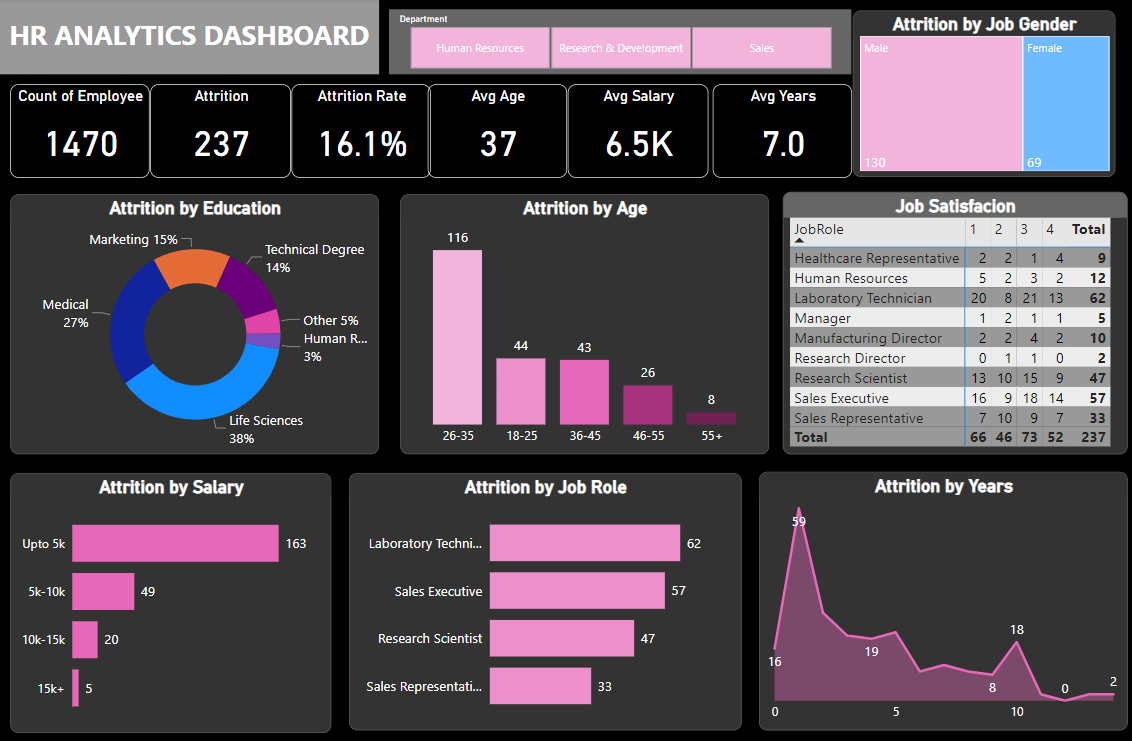

What the dashboard file says about the page in this screenshot:
{"tool":"powerbi","page":{"name":"Page 1","canvas":[1370,900],"ordinal":0},"visuals":[{"type":"card","title":"Count of Employee","fields":{"Values":["Sum(HR_Analytics.EmployeeCount)"]},"box":[13.9,103.5,168.3,112.7],"z":0},{"type":"card","title":"Attrition","fields":{"Values":["Sum(HR_Analytics.AttritionCount)"]},"box":[182.2,103.5,169.9,112.7],"z":1000},{"type":"card","title":"Attrition Rate","fields":{"Values":["HR_Analytics.AttritionRate"]},"box":[352.1,103.5,168.3,112.7],"z":2000},{"type":"card","title":"Avg Age","fields":{"Values":["Avg(HR_Analytics.Age)"]},"box":[517.3,103.5,168.3,112.7],"z":3000},{"type":"card","title":"Avg Years","fields":{"Values":["Avg(HR_Analytics.YearsAtCompany)"]},"box":[860.1,103.5,168.3,112.7],"z":4000},{"type":"card","title":"Avg Salary","fields":{"Values":["Avg(HR_Analytics.MonthlyIncome)"]},"box":[685.6,103.5,169.9,112.7],"z":5000},{"type":"donutChart","title":"Attrition by Education","fields":{"Y":["Sum(HR_Analytics.AttritionCount)"],"Category":["HR_Analytics.EducationField"]},"box":[13.6,236.7,444.7,313.6],"z":6000},{"type":"clusteredColumnChart","title":"Attrition by Age","fields":{"Category":["HR_Analytics.AgeGroup"],"Y":["Sum(HR_Analytics.AttritionCount)"]},"box":[483.9,236.7,444.7,313.6],"z":7000},{"type":"pivotTable","title":"Job Satisfacion","fields":{"Rows":["HR_Analytics.JobRole"],"Columns":["HR_Analytics.JobSatisfaction"],"Values":["Sum(HR_Analytics.AttritionCount)"]},"box":[945.2,233.7,416.1,316.6],"z":8000},{"type":"barChart","title":"Attrition by Salary","fields":{"Category":["HR_Analytics.SalarySlab"],"Y":["Sum(HR_Analytics.AttritionCount)"]},"box":[13.6,572.9,387.4,313.6],"z":9000},{"type":"barChart","title":"Attrition by Job Role","fields":{"Category":["HR_Analytics.JobRole"],"Y":["Sum(HR_Analytics.AttritionCount)"]},"box":[422.1,572.9,473.4,310.6],"z":10000},{"type":"areaChart","title":"Attrition by Years","fields":{"Category":["HR_Analytics.YearsAtCompany"],"Y":["Sum(HR_Analytics.AttritionCount)"]},"box":[916.6,571.4,444.7,312.1],"z":11000},{"type":"treemap","title":"Attrition by Job Gender","fields":{"Group":["HR_Analytics.Gender"],"Values":["Sum(HR_Analytics.AttritionCount)"]},"box":[1030,15.4,316.6,200.7],"z":12000},{"type":"slicer","fields":{"Values":["HR_Analytics.Department"]},"box":[470.4,13.6,557.8,78.4],"z":13000},{"type":"textbox","box":[0,0,458.3,92],"z":14000}]}

Visuals, with their boxes in screenshot pixels (x1, y1, x2, y2), scaled from the page's 1370x900 canvas onto the 1132x741 screenshot:
"Count of Employee" card: locate(11, 85, 151, 178)
"Attrition" card: locate(151, 85, 291, 178)
"Attrition Rate" card: locate(291, 85, 430, 178)
"Avg Age" card: locate(427, 85, 566, 178)
"Avg Years" card: locate(711, 85, 850, 178)
"Avg Salary" card: locate(566, 85, 707, 178)
"Attrition by Education" donutChart: locate(11, 195, 379, 453)
"Attrition by Age" clusteredColumnChart: locate(400, 195, 767, 453)
"Job Satisfacion" pivotTable: locate(781, 192, 1125, 453)
"Attrition by Salary" barChart: locate(11, 472, 331, 730)
"Attrition by Job Role" barChart: locate(349, 472, 740, 727)
"Attrition by Years" areaChart: locate(757, 470, 1125, 727)
"Attrition by Job Gender" treemap: locate(851, 13, 1113, 178)
slicer - HR_Analytics.Department: locate(389, 11, 850, 76)
textbox: locate(0, 0, 379, 76)
